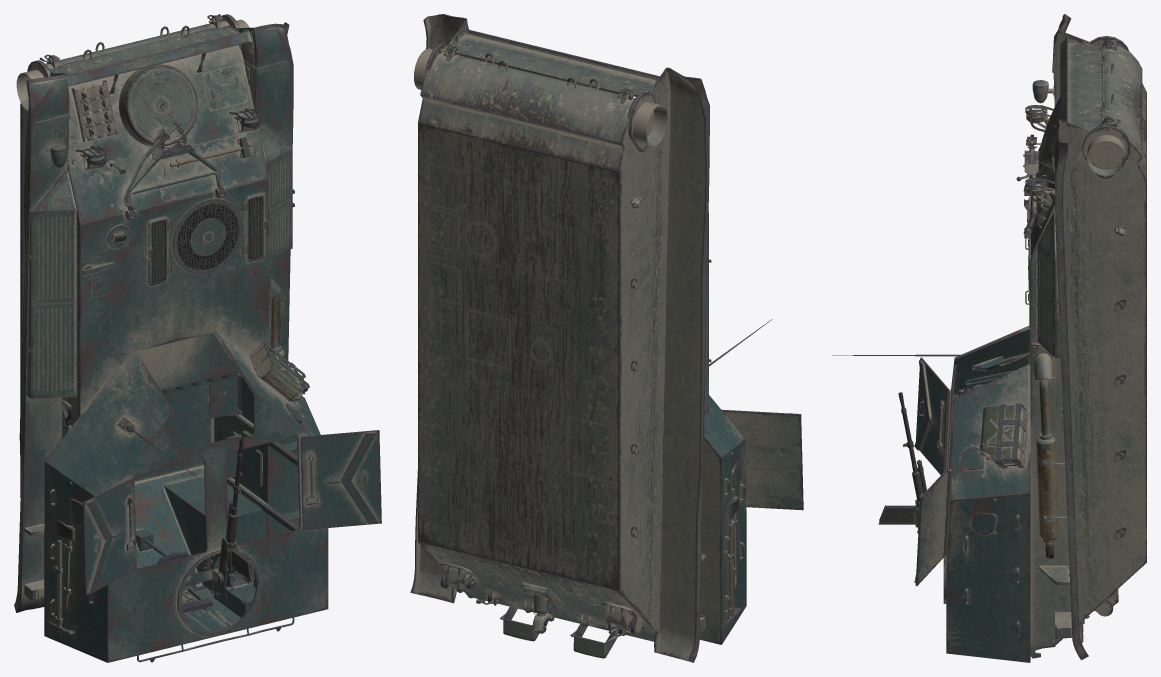
Rendered from Hull.glb.
The picture shows the model from 3 angles, left to right: view 1: azimuth 30°, elevation 25°; view 2: azimuth 150°, elevation 25°; view 3: azimuth 270°, elevation 25°; orthographic projection. The views are drawn at different scales.
Visible parts, largest first — view 1: set_0_group_0; view 2: set_0_group_0; view 3: set_0_group_0.
Boxes of the visible parts, x1,y1,x2,y2 form: set_0_group_0: (14, 14, 381, 662); set_0_group_0: (410, 14, 803, 662); set_0_group_0: (832, 14, 1146, 662).
Size of the model in its own units: 2.75 by 4.93 by 2.61.
Materials: 1 (1 with a texture image).
